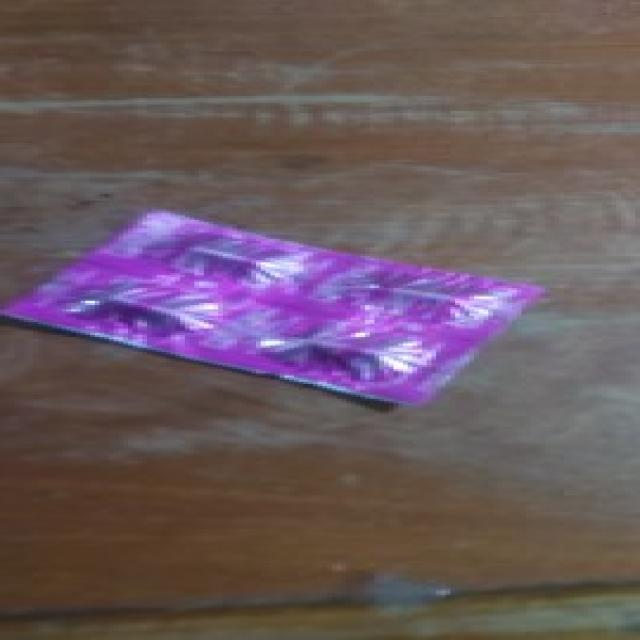Cacat: (9, 208, 550, 411)
